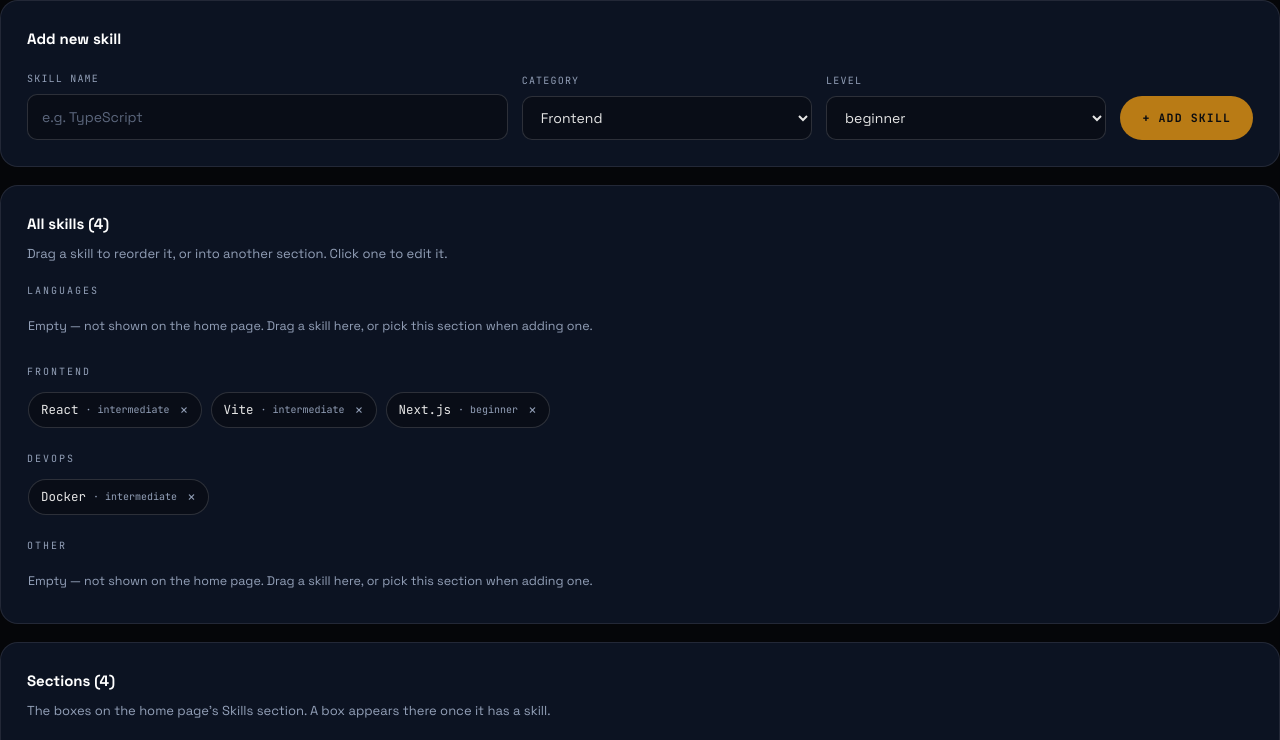
Test case: adding › refuses a duplicate name before the server has to
Step 1. Type "React" into the field labelled "Skill name" → (267, 117), box [27,94,508,140]
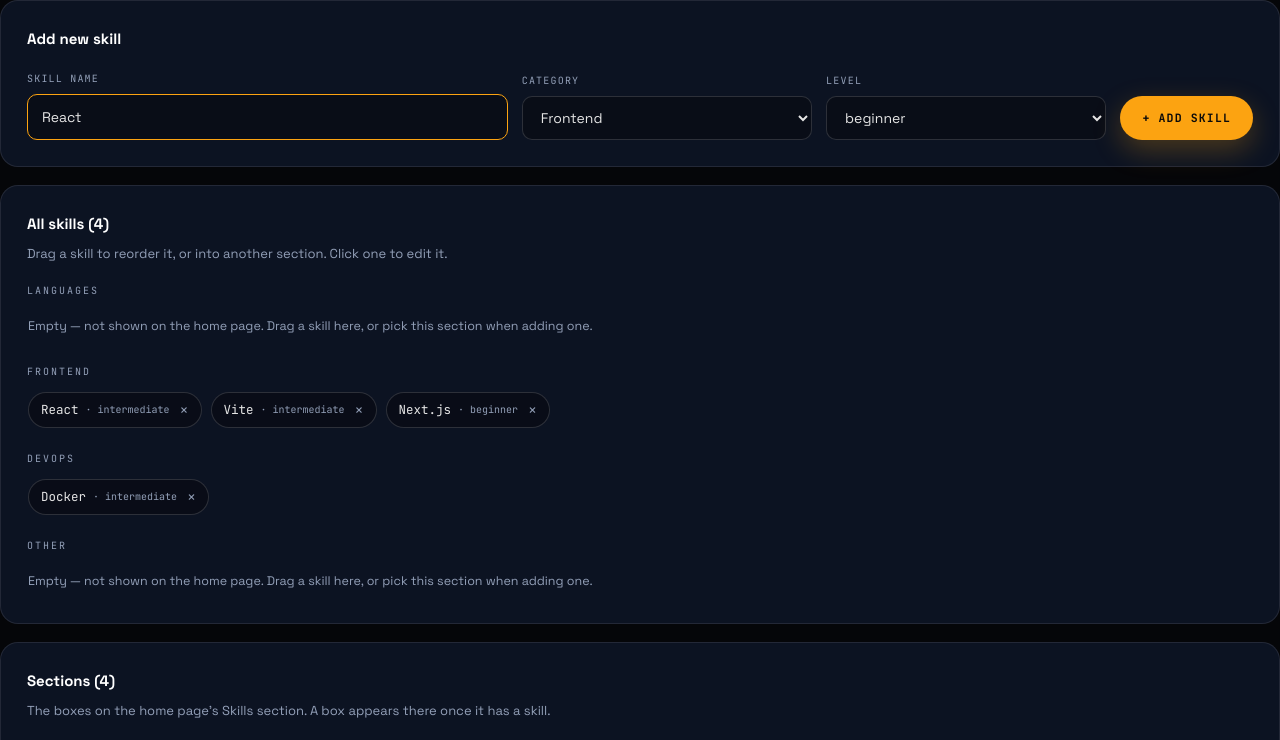
Step 2. Click the button "+ ADD SKILL" → (1187, 118), box [1120,96,1253,140]
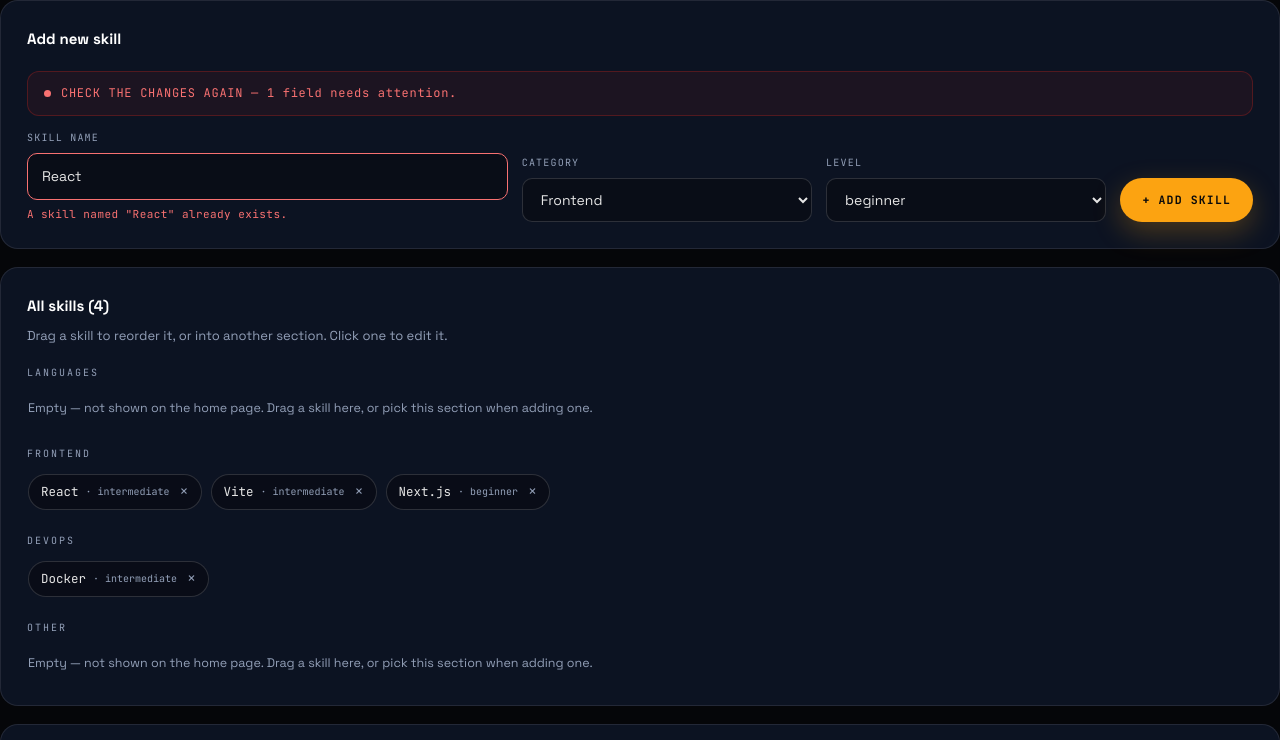
Check: the text "A skill named \"React\" already exists." is shown, box [27,207,288,221]
